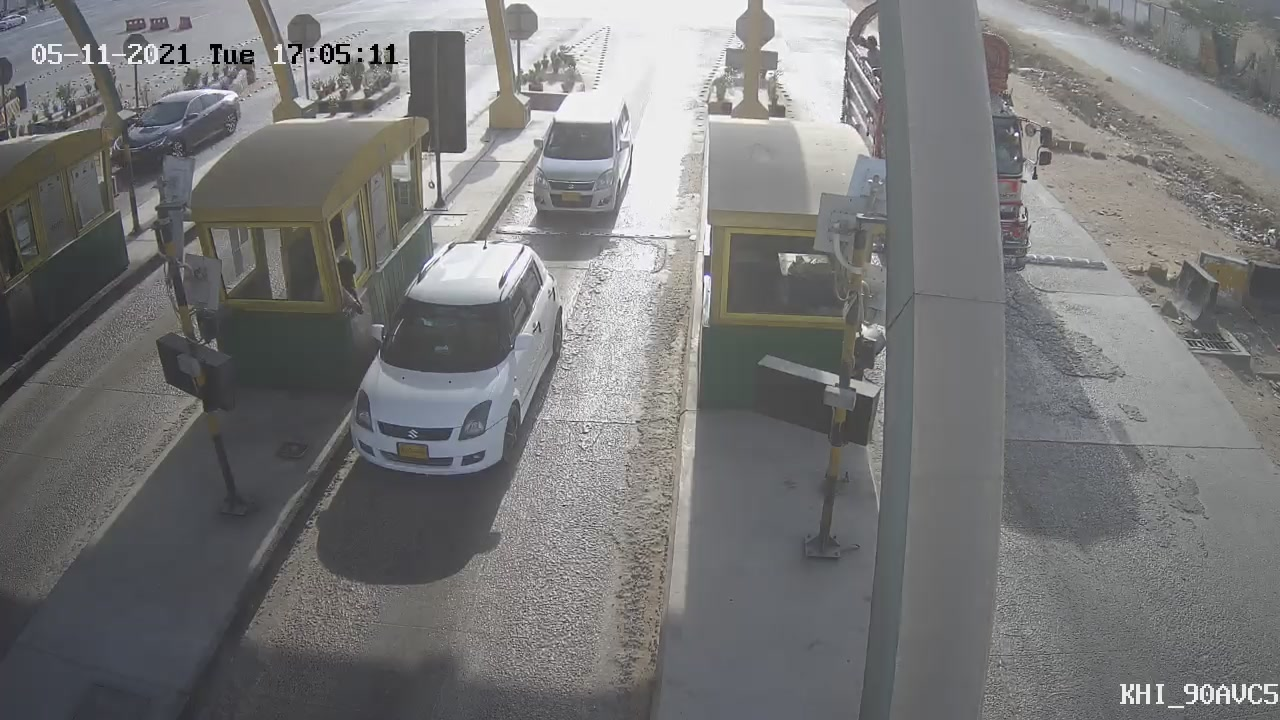F1: (325, 228, 588, 492), (512, 79, 653, 233)
